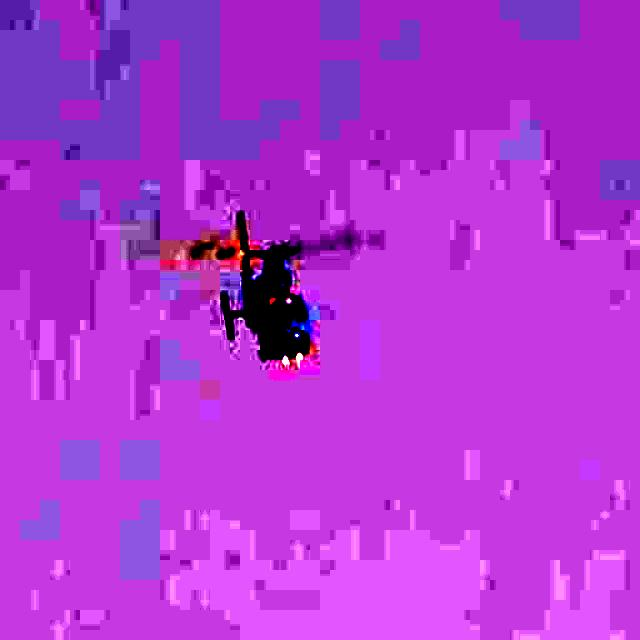drone: (128, 132, 390, 429)
